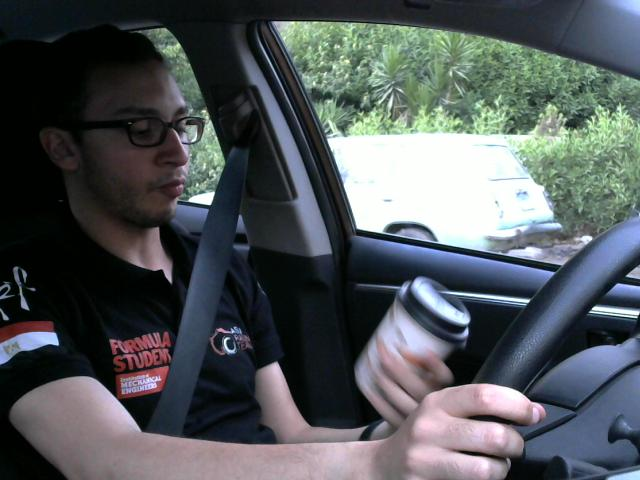Drinking: (352, 263, 476, 395)
